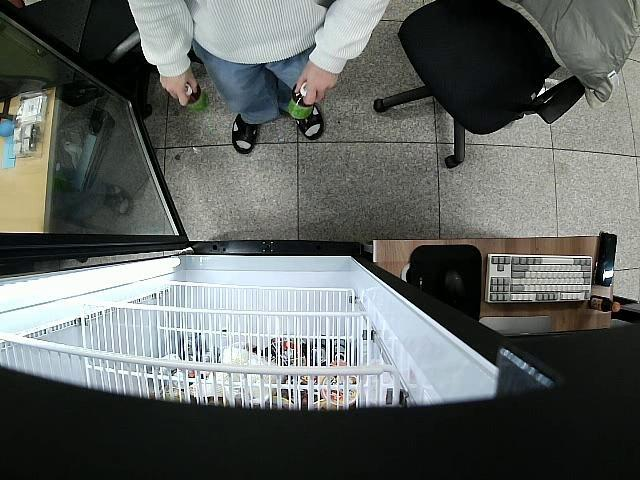19_17cha: (178, 77, 212, 116), (286, 84, 314, 122)
